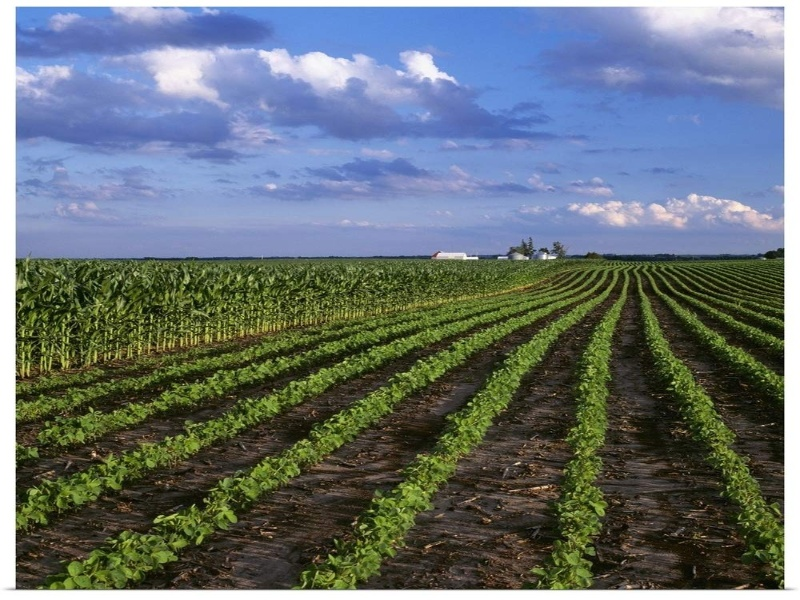soyabean: (724, 468, 783, 575), (88, 532, 185, 582), (213, 462, 295, 509), (550, 497, 593, 585), (332, 516, 393, 577)
